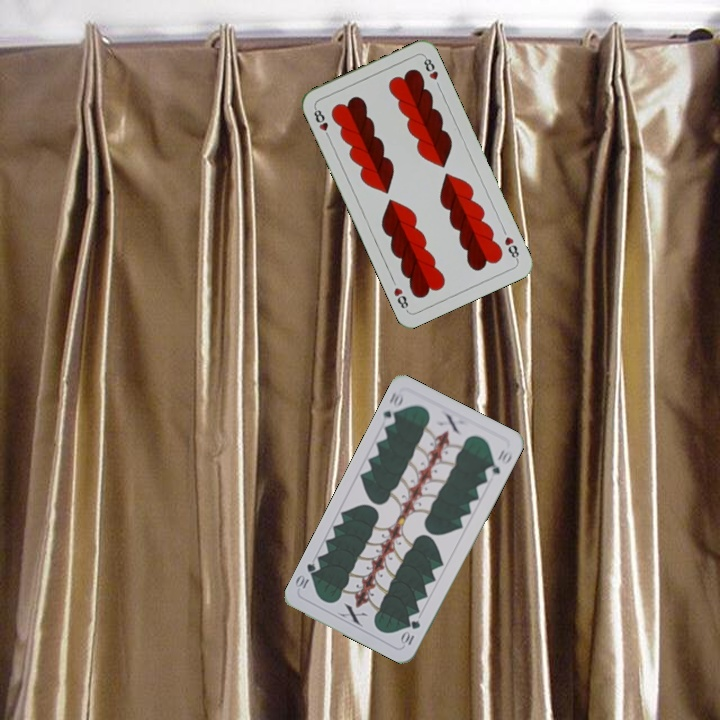G10: (378, 388, 406, 428), (397, 616, 423, 648)
H8: (310, 103, 333, 142), (500, 232, 522, 263)
